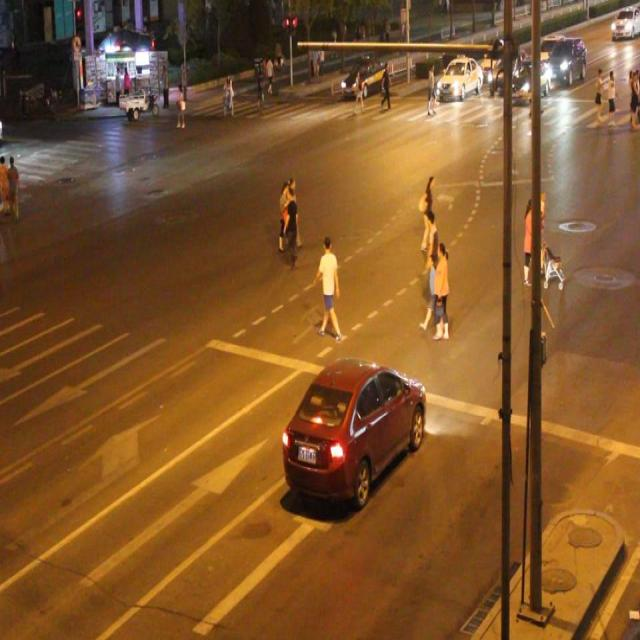car: (280, 358, 426, 512)
